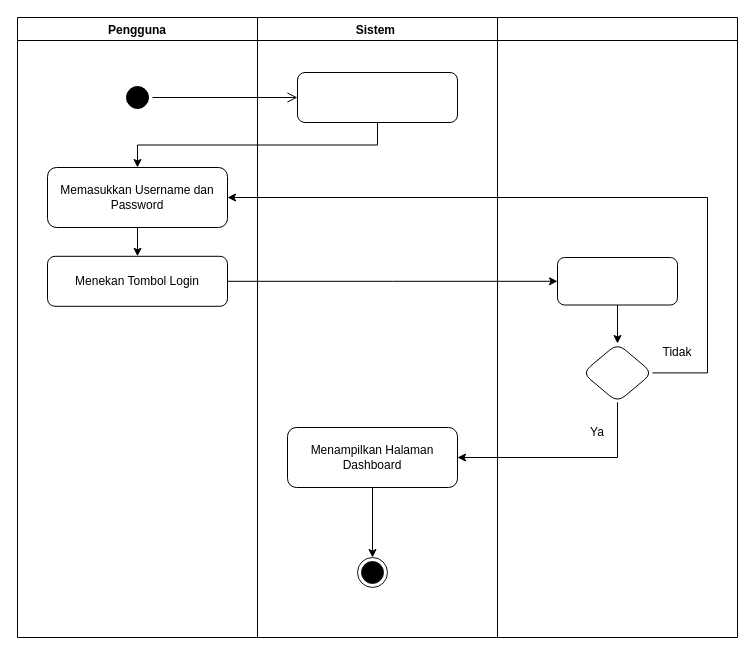
The diagram is 755 pixels wide and 655 high, and some of its shapes have lost their labels. The box of each missing label's shape, as (x1, y1, x2, y2) in pixels:
Database: (496, 16, 738, 638)
Menampilkan halaman login: (296, 72, 458, 122)
Validasi Login: (556, 256, 678, 305)
